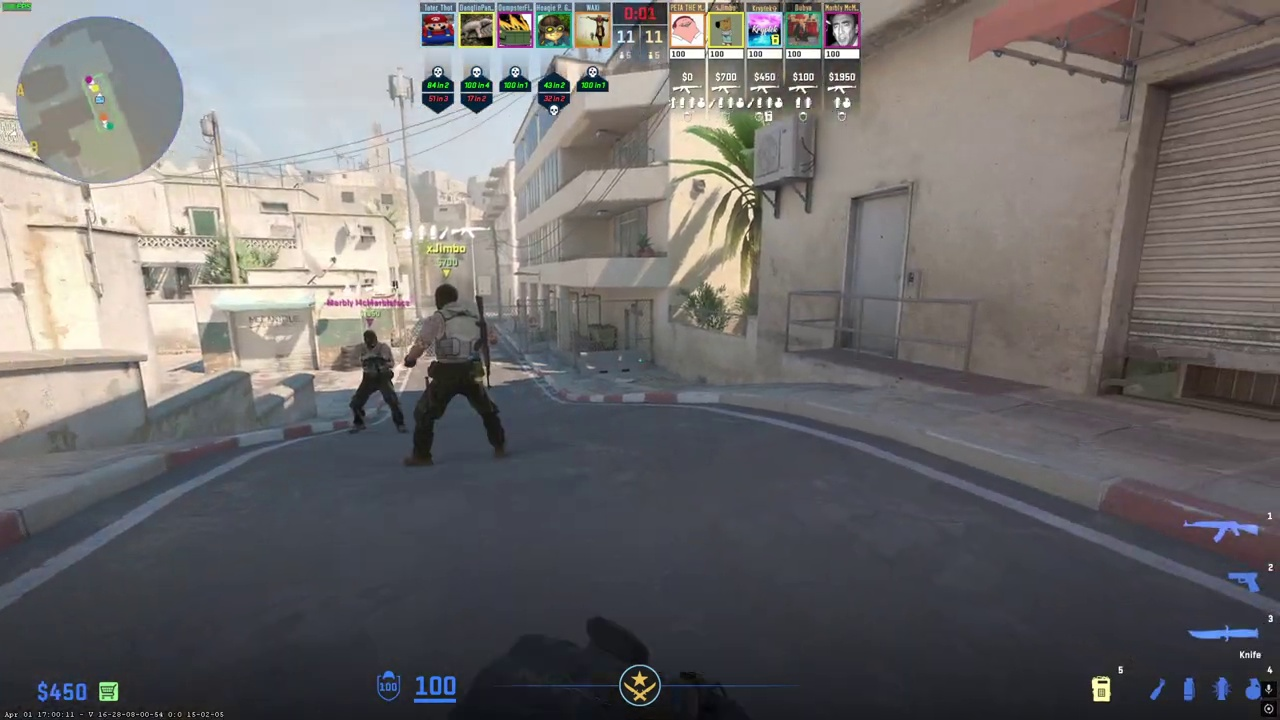Terrorist: (406, 283, 501, 468), (348, 330, 400, 433)
